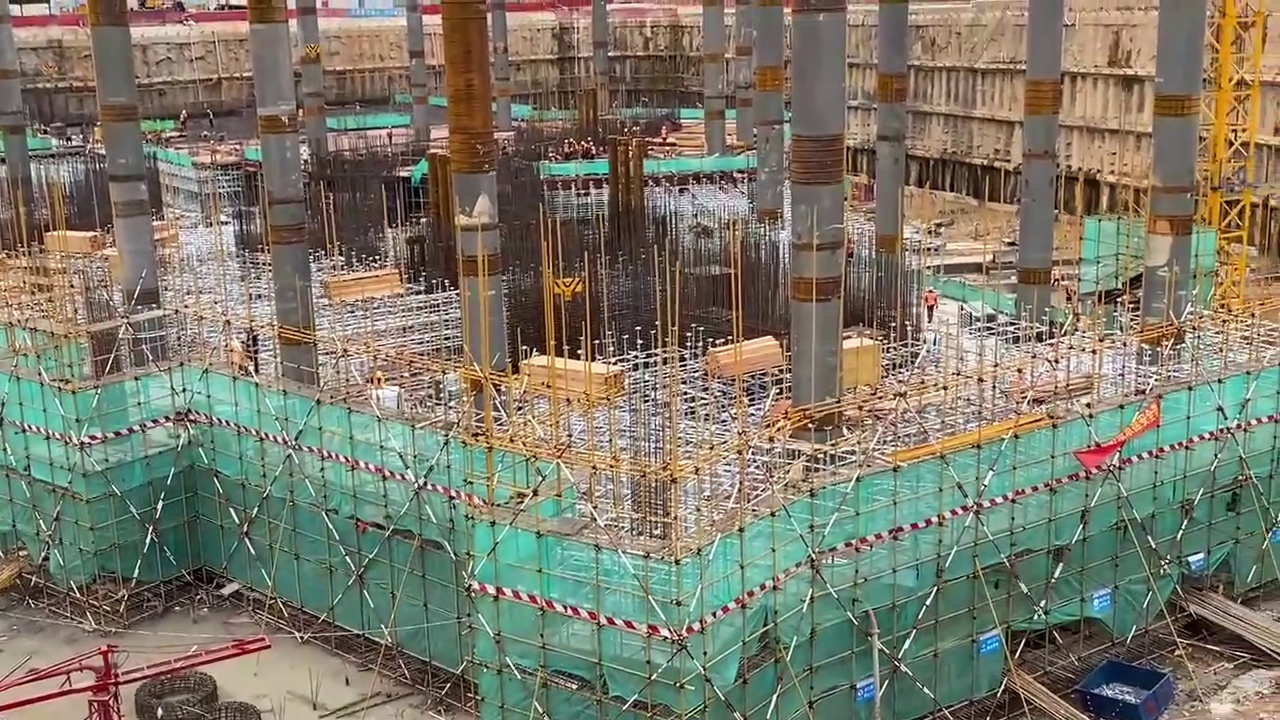hook: (554, 278, 581, 305)
hopper: (1069, 657, 1180, 714)
person: (921, 280, 941, 317)
wood: (520, 351, 621, 394), (710, 345, 784, 382), (326, 270, 405, 299), (43, 228, 101, 253)
